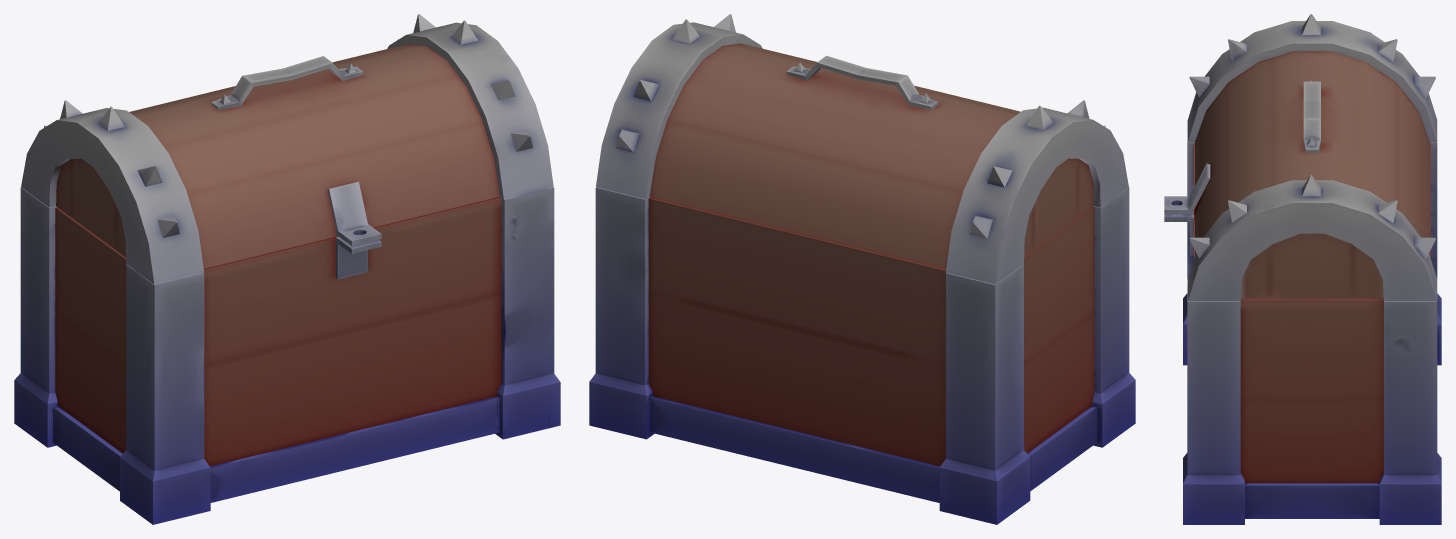
The model's file is BauFinal.fbx.
The picture shows the model from 3 angles, left to right: view 1: azimuth 30°, elevation 25°; view 2: azimuth 150°, elevation 25°; view 3: azimuth 270°, elevation 25°; orthographic projection. The views are drawn at different scales.
Parts seen in each view (by area): view 1: bau4_low, bau2_low, bau3_low, bau6_low, bau0_low, bau1_low, bau5_low; view 2: bau4_low, bau2_low, bau3_low, bau6_low, bau1_low, bau5_low; view 3: bau3_low, bau2_low, bau4_low, bau6_low, bau1_low, bau0_low, bau5_low.
Part boxes in pixels (x1,y1,x2,y2): bau4_low: (55,197,501,466); bau2_low: (14,187,560,524); bau3_low: (56,44,499,268); bau6_low: (21,22,553,284); bau0_low: (327,181,381,279); bau1_low: (44,14,532,237); bau5_low: (211,56,363,110); bau4_low: (648,197,1094,466); bau2_low: (589,187,1135,524); bau3_low: (649,43,1093,268); bau6_low: (596,22,1128,284); bau1_low: (616,14,1105,238); bau5_low: (786,55,938,109); bau3_low: (1195,51,1429,298); bau2_low: (1183,119,1441,524); bau4_low: (1193,143,1430,483); bau6_low: (1188,21,1436,301); bau1_low: (1189,14,1435,259); bau0_low: (1164,163,1210,255); bau5_low: (1303,80,1320,152).
Size of the model in its own units: 370 by 314 by 234.
Materials: 1 (1 with a texture image).
